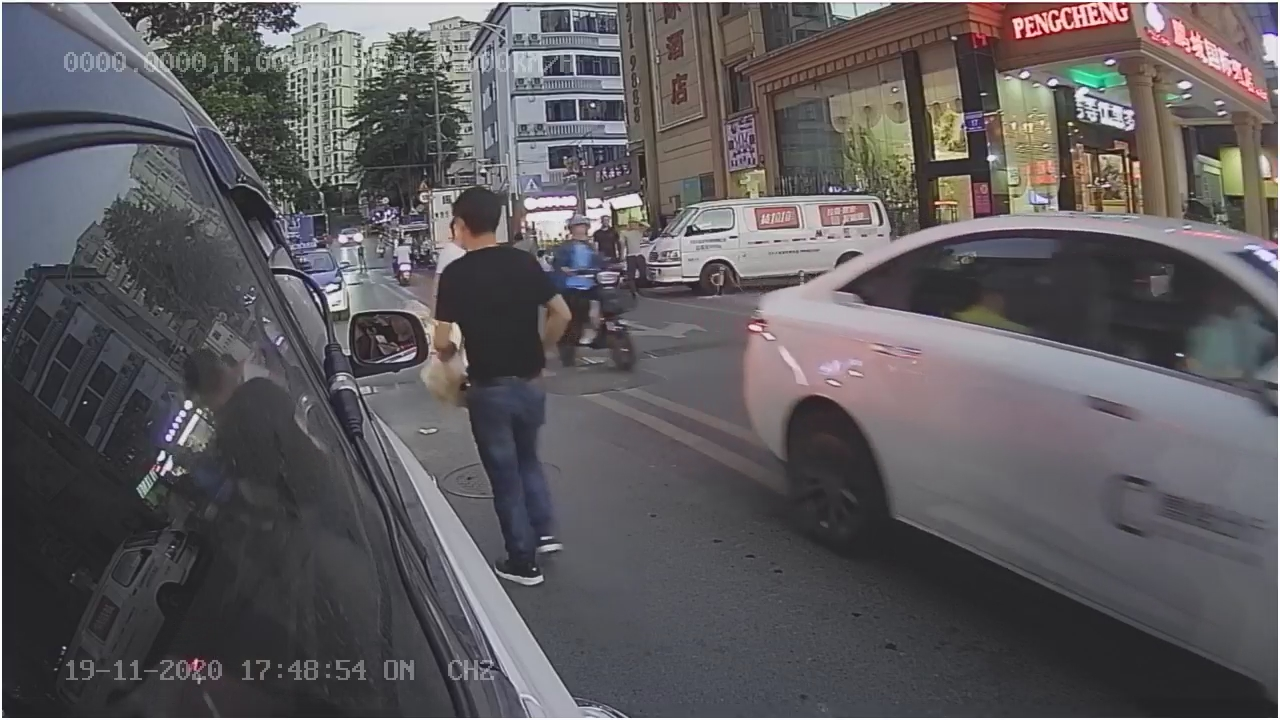person: (423, 185, 574, 485)
